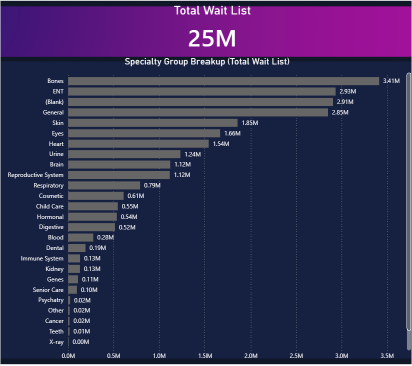

This screenshot's page, from the dashboard's own definition file:
{"tool":"powerbi","page":{"name":"DrillDown","canvas":[816,1056],"ordinal":2},"visuals":[{"type":"barChart","title":"Specialty Group Breakup (Total Wait List)","fields":{"Category":["Mapping_Specialty.Specialty Group"],"Y":["Sum(All_Data.Total)"]},"box":[0,273.4,816.3,612.2],"z":0},{"type":"cardVisual","title":"Total Wait List","fields":{"Data":["Sum(All_Data.Total)"]},"box":[239.7,168.4,358.6,105],"z":1000}]}

Visuals, with their boxes on the page's 816x1056 design canvas (x1, y1, x2, y2). These are canvas units, not pixel positions in the 412x366 screenshot, which may show the page scaled, cropped or inside an application window:
"Specialty Group Breakup (Total Wait List)" barChart: {"x1": 0, "y1": 273, "x2": 816, "y2": 886}
"Total Wait List" cardVisual: {"x1": 240, "y1": 168, "x2": 598, "y2": 273}
